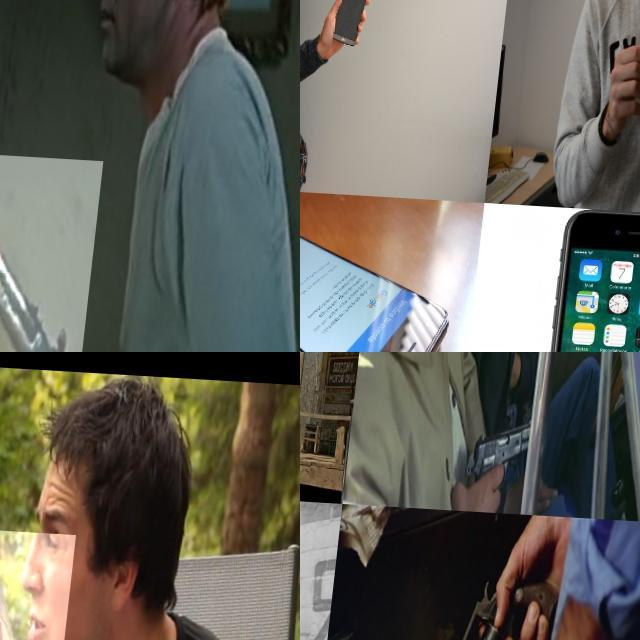-: (0, 526, 80, 640)
gun-knife-thesis - v11 Yolov5 augmented: (0, 150, 112, 352), (443, 555, 570, 640), (470, 411, 538, 484), (300, 352, 314, 391), (300, 352, 309, 375)
